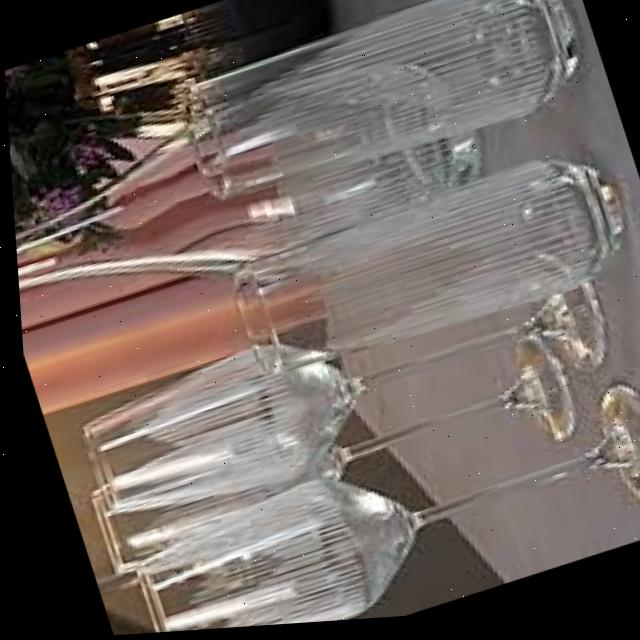Dry: (102, 372, 640, 636), (210, 143, 640, 398)
